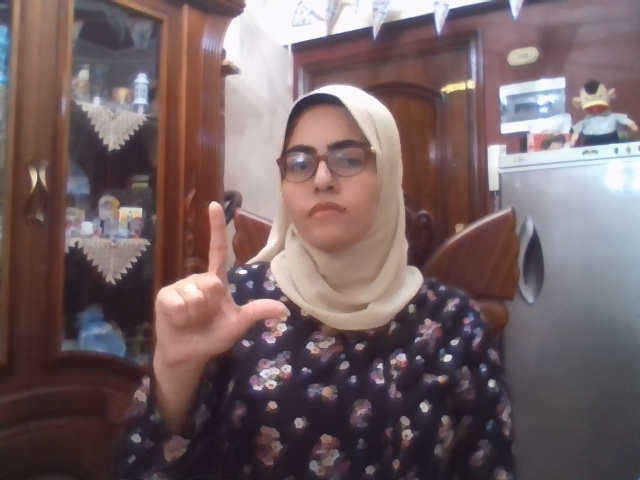L: (156, 202, 291, 363)
